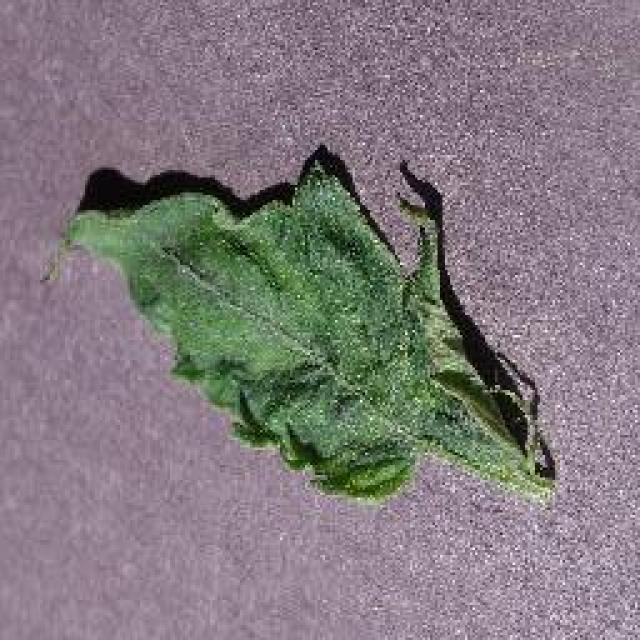Tomato spider mites leaf: (65, 165, 555, 503)
